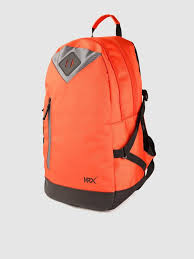backpack: (41, 13, 156, 211)
